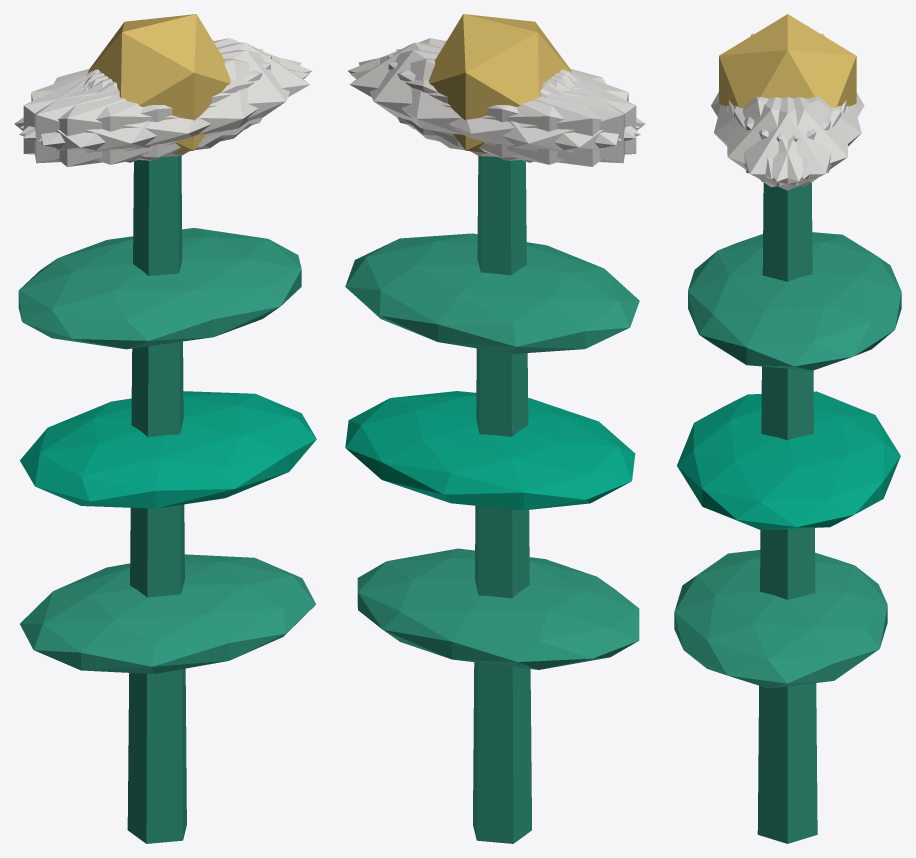
Rendered from macaranga-tanarius.glb.
3 views of the same model, side by side, from view 1: azimuth 30°, elevation 25°; view 2: azimuth 150°, elevation 25°; view 3: azimuth 270°, elevation 25° (orthographic).
Visible parts, largest first — view 1: stem, leaf1, leaf0, leaf2, center, petal1, petal6, petal2, petal5, petal7, petal0, petal4 (+2 smaller); view 2: stem, leaf2, leaf1, leaf0, center, petal8, petal3, petal7, petal4, petal2, petal0, petal5 (+2 smaller); view 3: leaf1, leaf2, stem, leaf0, center, petal0, petal5, petal4, petal8, petal1.
Part boxes in pixels (x1,y1,x2,y2): stem: (127,156,186,843); leaf1: (20,391,316,508); leaf0: (20,554,315,673); leaf2: (18,228,301,349); center: (87,14,230,152); petal1: (19,58,309,164); petal6: (14,71,224,166); petal2: (34,49,263,163); petal5: (38,50,300,157); petal7: (23,55,271,160); petal0: (87,42,309,147); petal4: (20,38,311,138); stem: (473,156,531,843); leaf2: (345,233,639,353); leaf1: (345,391,635,510); leaf0: (357,548,639,669); center: (429,14,572,152); petal8: (350,58,640,164); petal3: (435,71,645,166); petal7: (396,49,625,163); petal4: (358,50,620,157); petal2: (388,55,636,160); petal0: (349,42,572,147); petal5: (347,38,639,138); leaf1: (677,391,900,530); leaf2: (688,232,901,370); stem: (757,182,817,843); leaf0: (674,550,887,688); center: (719,14,856,107); petal0: (728,97,846,190); petal5: (727,97,841,187); petal4: (734,97,848,187); petal8: (744,96,861,179); petal1: (714,96,831,179).
Bounding box in the file's own units: 0.1452 × 0.3922 × 0.1011.
